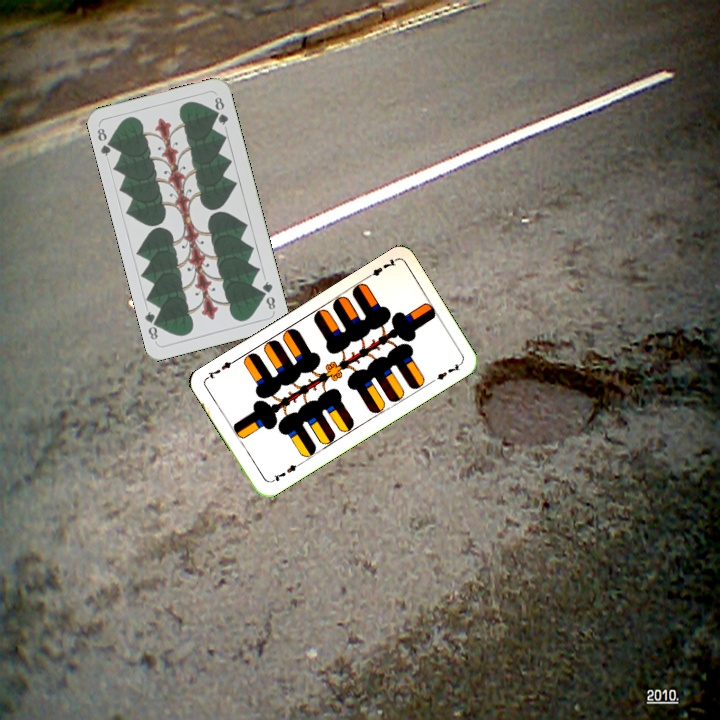E7: (362, 255, 399, 282), (266, 459, 303, 485)
G8: (93, 124, 116, 159), (258, 277, 278, 312)
